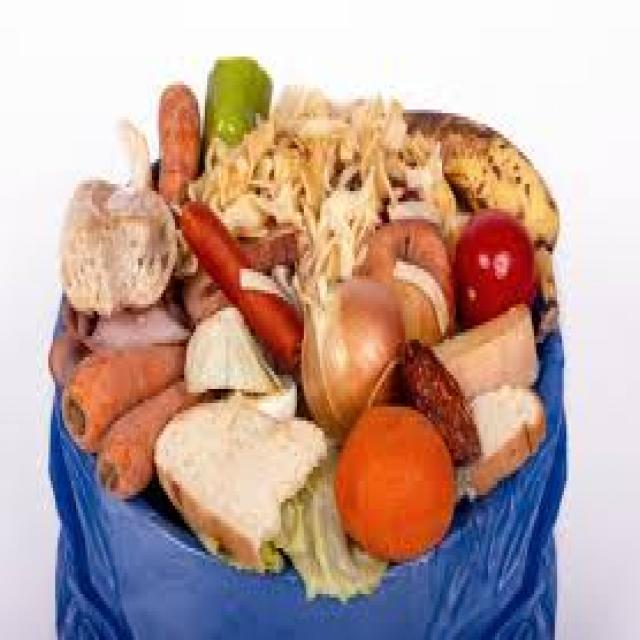organic waste: (186, 82, 446, 280), (400, 102, 560, 329), (152, 389, 327, 576), (55, 113, 175, 308), (175, 195, 302, 357), (177, 202, 304, 357), (332, 396, 451, 559), (295, 266, 403, 432), (272, 467, 384, 601), (94, 371, 210, 499), (60, 336, 191, 445), (175, 216, 295, 322), (454, 374, 544, 498), (428, 304, 539, 400), (364, 212, 451, 332), (449, 209, 536, 325), (403, 329, 481, 456), (179, 304, 281, 386), (200, 56, 272, 148), (81, 297, 191, 354), (157, 77, 200, 202), (62, 297, 104, 361), (46, 332, 90, 389), (256, 371, 297, 414)
